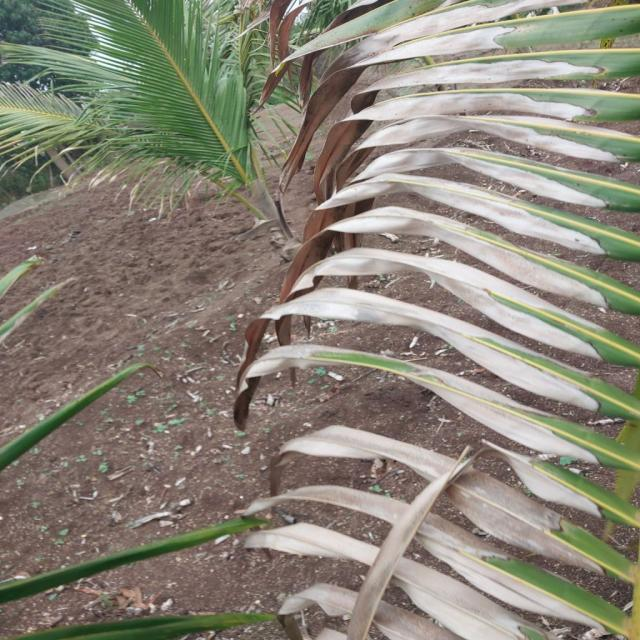gray leaf spot: (233, 0, 640, 526), (247, 426, 638, 640)
